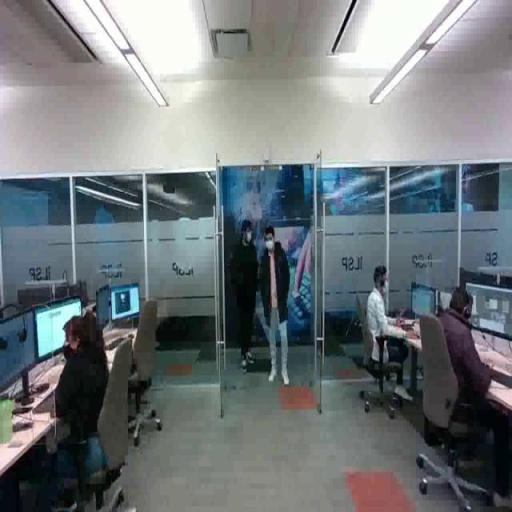person: (258, 226, 295, 387), (233, 219, 262, 372)
